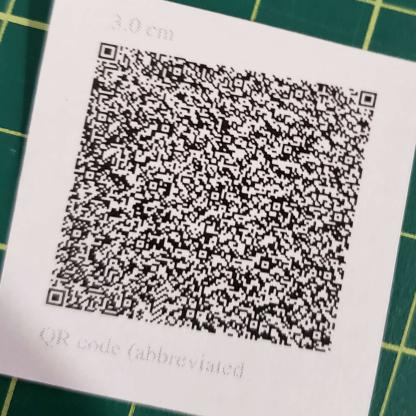qr: (40, 35, 381, 358)
